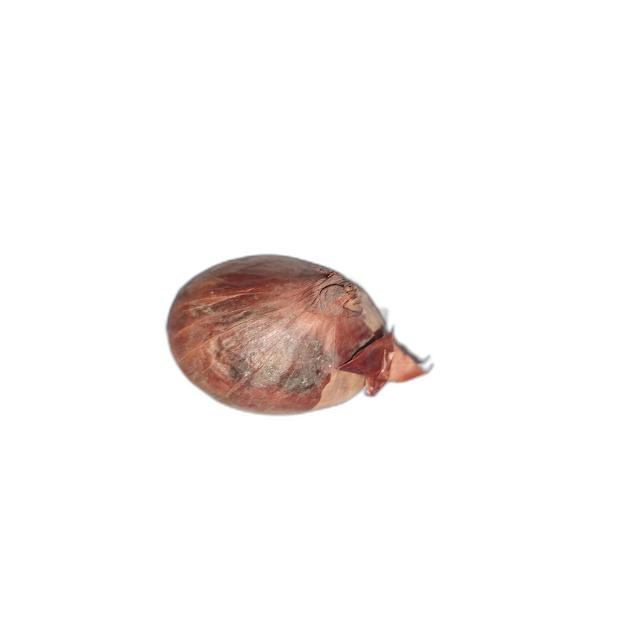onion: (162, 253, 437, 418)
